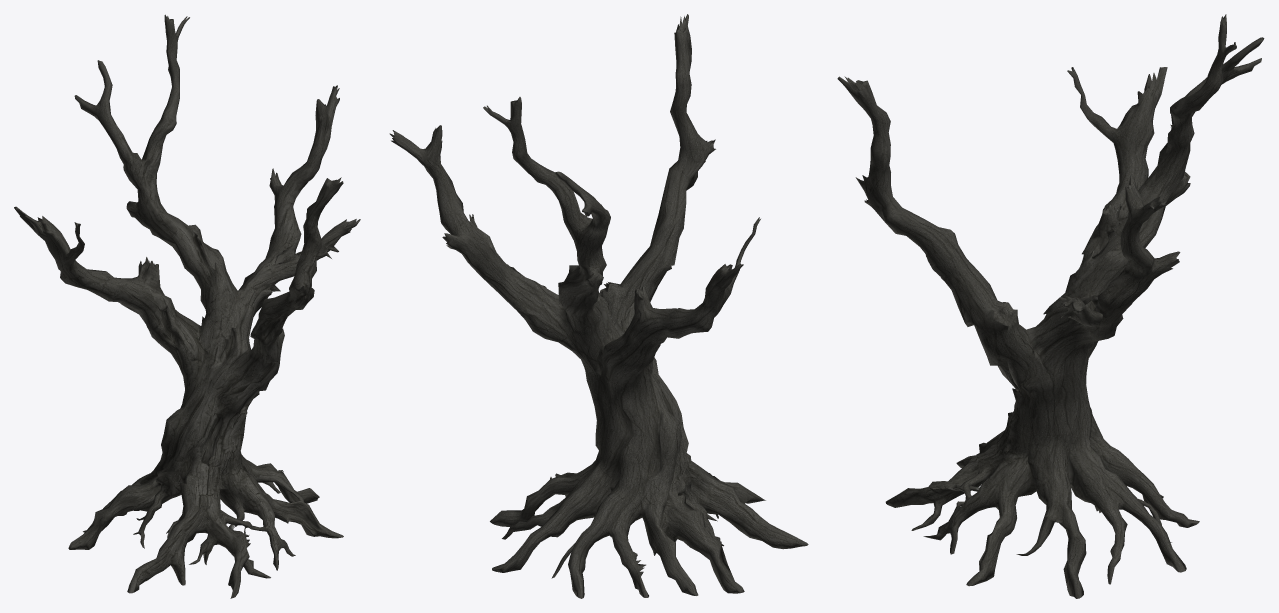
The model's file is dead-tree3.glb.
3 views of the same model, side by side, from view 1: azimuth 30°, elevation 25°; view 2: azimuth 150°, elevation 25°; view 3: azimuth 270°, elevation 25° (orthographic). The views are drawn at different scales.
Bounding box in the file's own units: 0.7051 × 0.9536 × 0.6914.
Materials: 1 (1 with a texture image).
